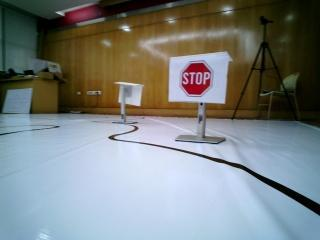stop: (171, 55, 224, 94)
